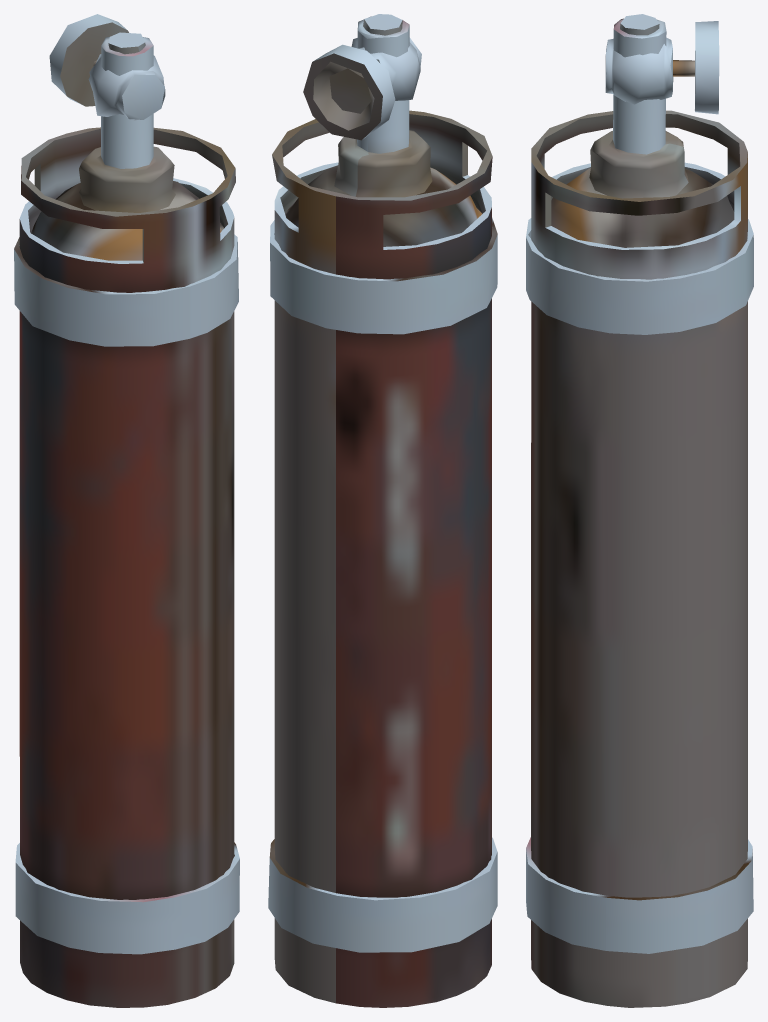
The model's file is SM_OxygenCylinder01.gltf.
The picture shows the model from 3 angles, left to right: view 1: azimuth 30°, elevation 25°; view 2: azimuth 150°, elevation 25°; view 3: azimuth 270°, elevation 25°; orthographic projection.
Parts seen in each view (by area): view 1: SM_OxygenCylinder01; view 2: SM_OxygenCylinder01; view 3: SM_OxygenCylinder01.
Part boxes in pixels (x1=…): SM_OxygenCylinder01: x1=14, y1=14, x2=239, y2=1007; SM_OxygenCylinder01: x1=268, y1=14, x2=497, y2=1007; SM_OxygenCylinder01: x1=526, y1=14, x2=753, y2=1007.
Size of the model in its own units: 0.1592 by 0.7147 by 0.1571.
Materials: 1 (1 with a texture image).
